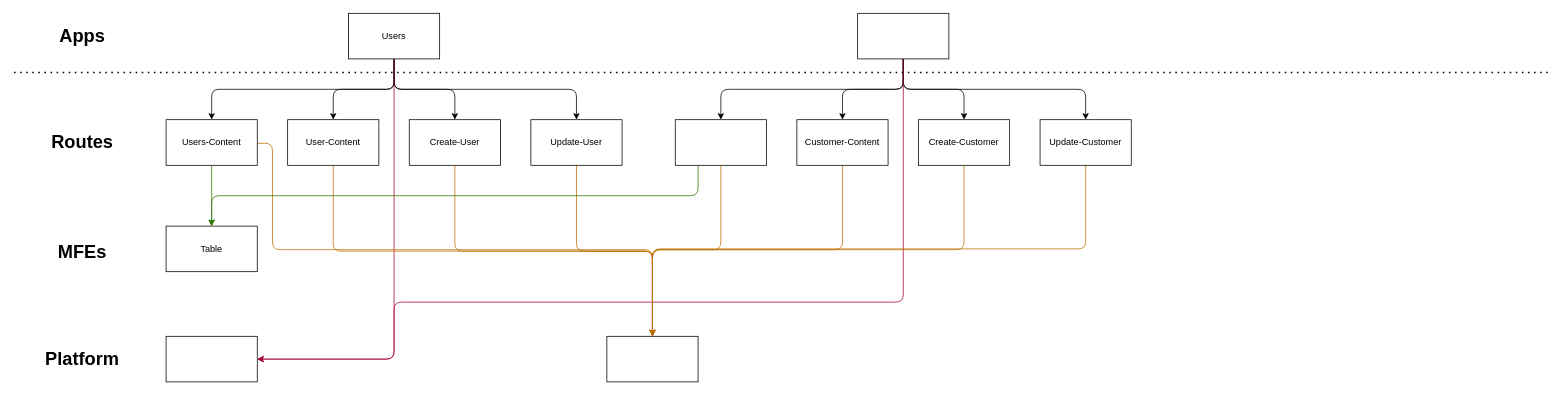
Some shapes in this 1564 by 395 pixel diagram are drawn without their labels. Each missing label, with the centre of its shape:
"Cache / Server state" belongs at [652,359].
"Customers" belongs at [903,36].
"Customers-Content" belongs at [720,142].
"UI" belongs at [211,359].
